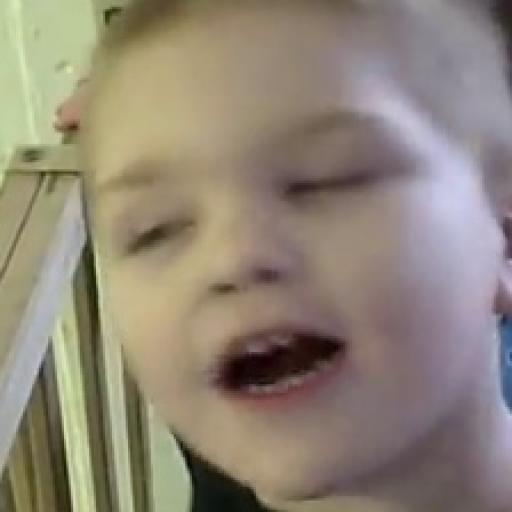Autism: (99, 0, 512, 512)
